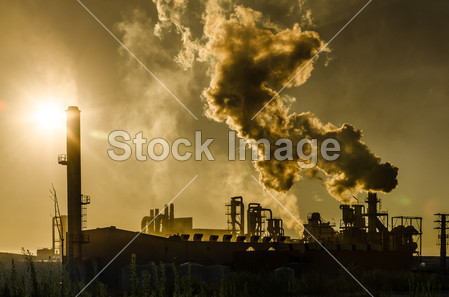dust: (190, 9, 401, 208)
